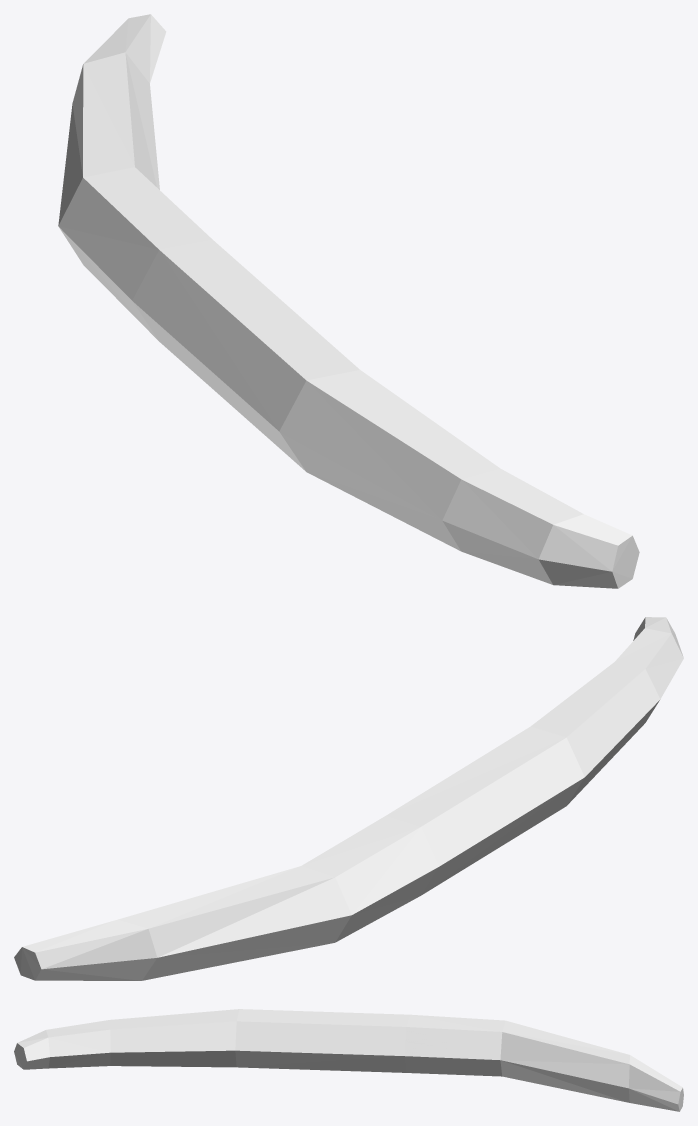
The model's file is Crop_Bean_01.glb.
3 views of the same model, one above another, from view 1: azimuth 30°, elevation 25°; view 2: azimuth 150°, elevation 25°; view 3: azimuth 270°, elevation 25° (orthographic). The views are drawn at different scales.
Visible parts, largest first — view 1: Crop_Bean_01; view 2: Crop_Bean_01; view 3: Crop_Bean_01.
Part boxes in pixels (bbox=[...]): Crop_Bean_01: bbox=[58, 14, 639, 588]; Crop_Bean_01: bbox=[14, 617, 683, 980]; Crop_Bean_01: bbox=[14, 1009, 683, 1111].
Size of the model in its own units: 0.0528 by 0.0143 by 0.1889.
Materials: 1 (1 with a texture image).
